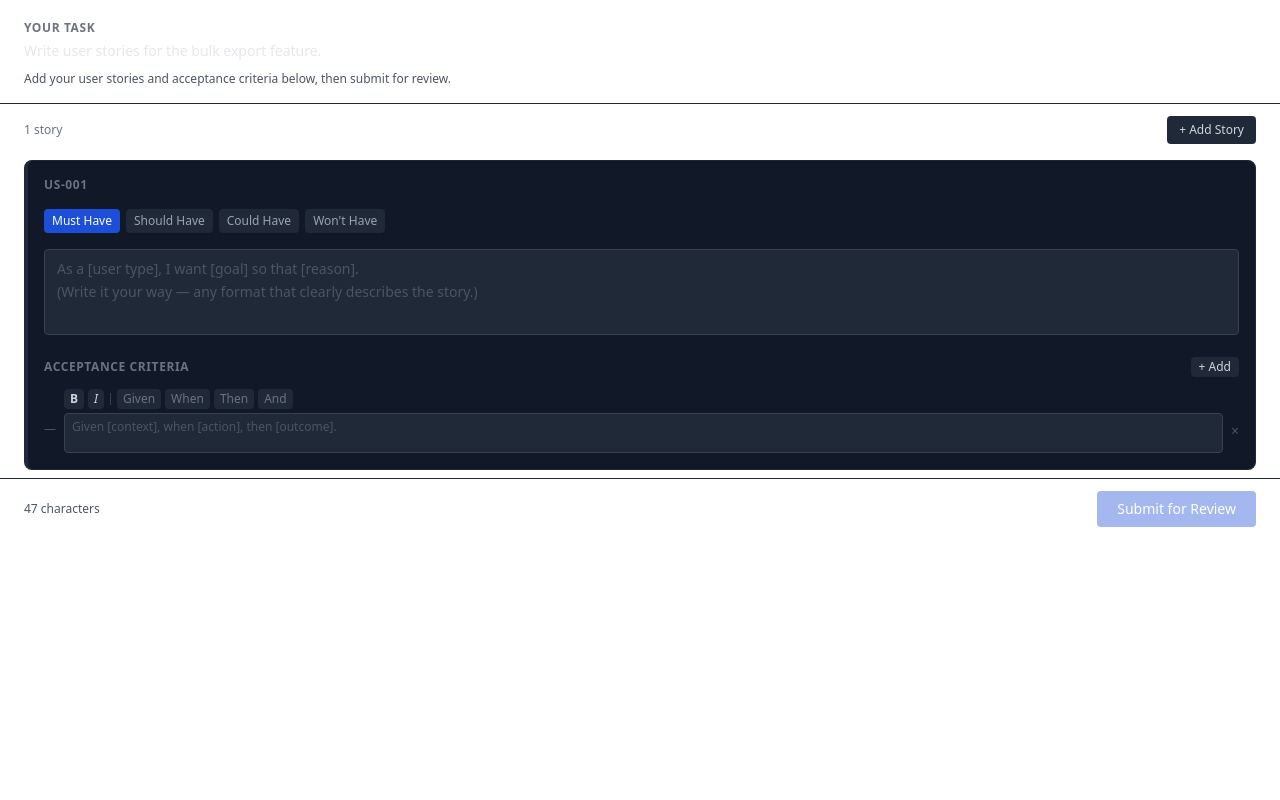
it: DocumentEditor › Remove button deletes a card when more than 1 exist
The width and height of the screenshot is (1280, 800).
Click the button "+ Add Story". click: (1212, 130)
box: x1=1167 y1=116 x2=1256 y2=144
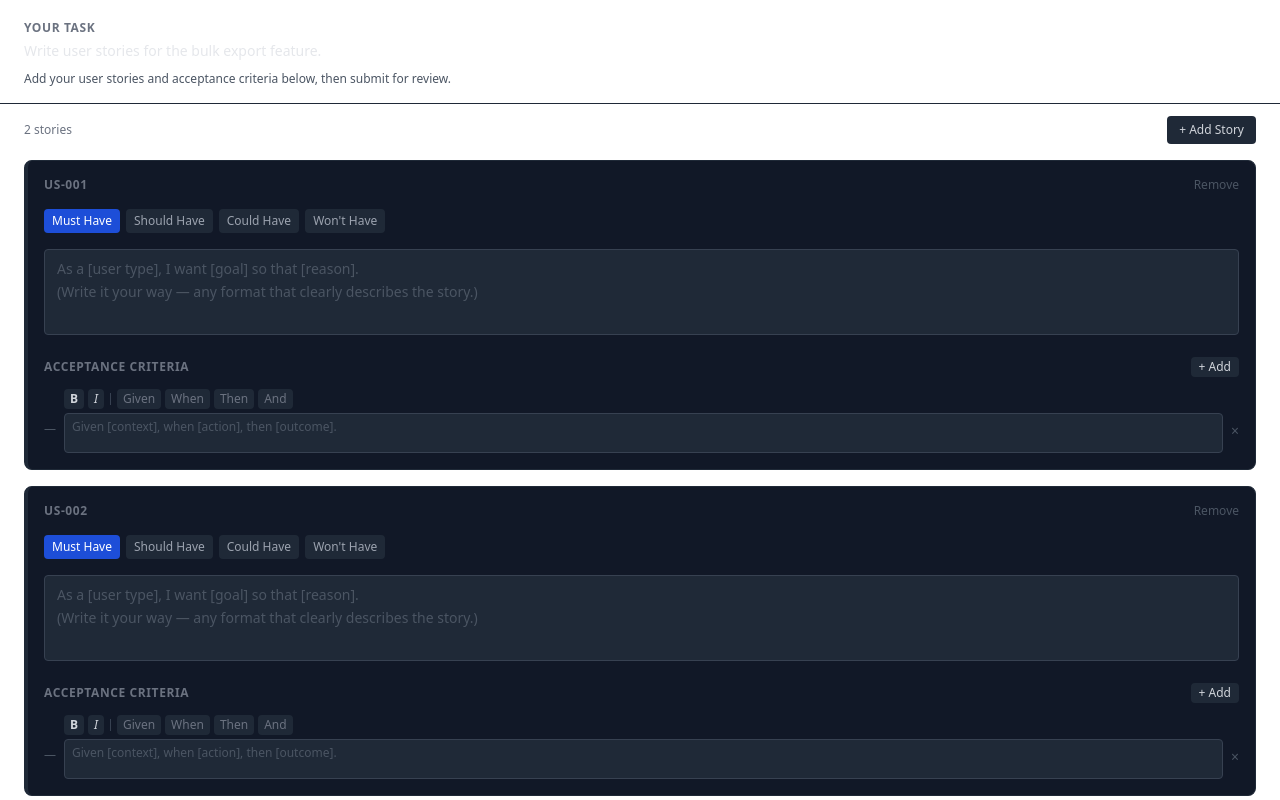
Expected: the text "2 stories" is shown, x1=24 y1=122 x2=72 y2=138
Click the button with aria-label "remove story". click: (1216, 185)
box: x1=1194 y1=177 x2=1239 y2=193
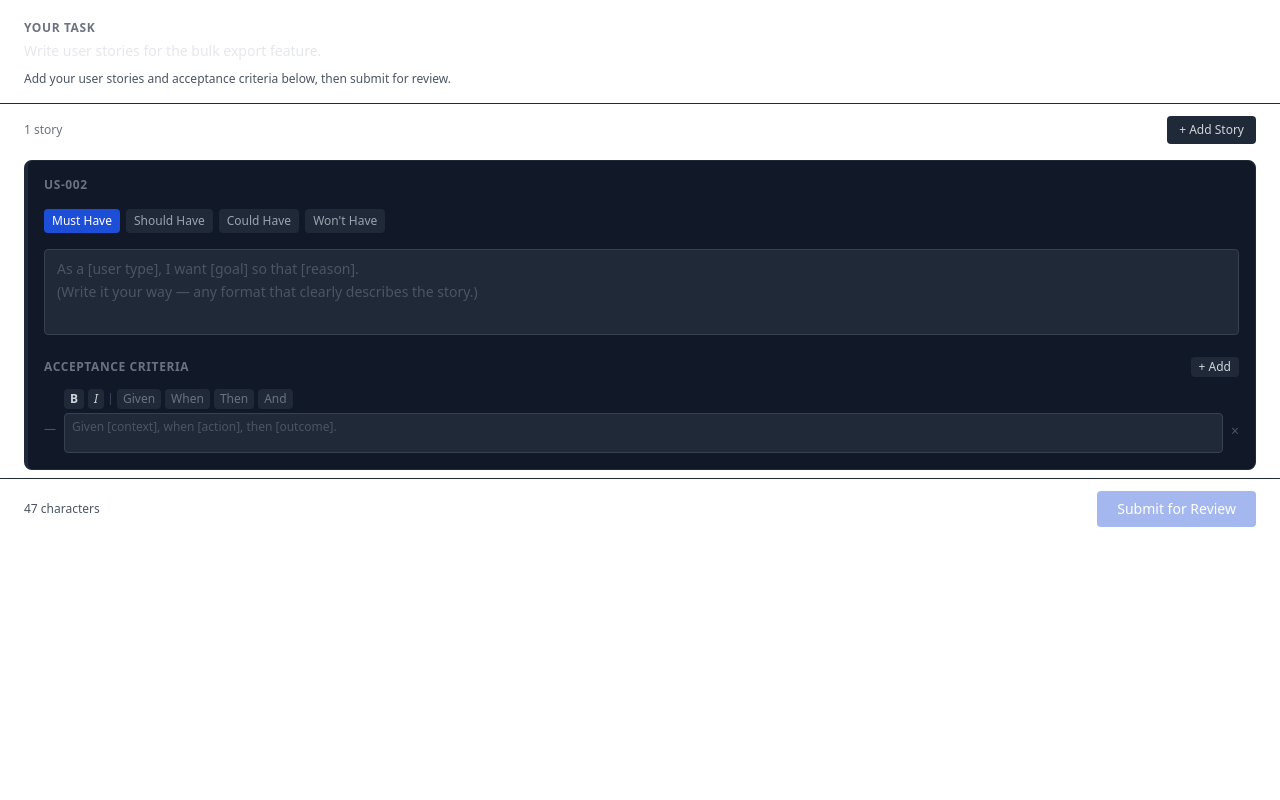
Expected: the text "1 story" is shown, x1=24 y1=122 x2=62 y2=138
